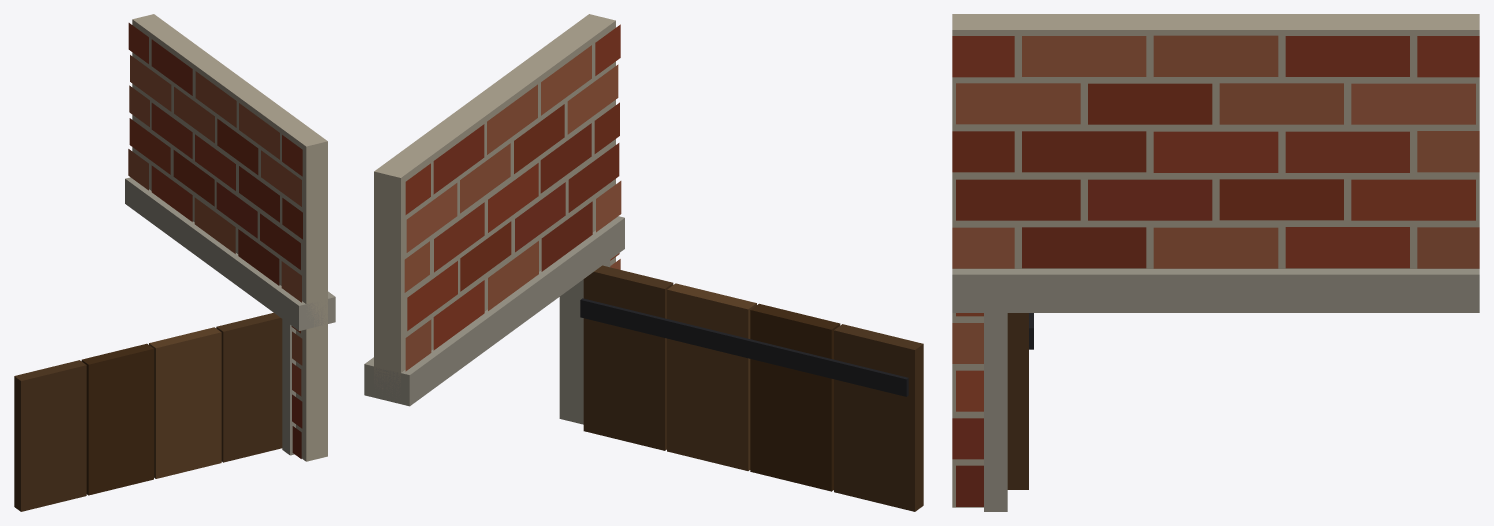
Rendered from wall-brick-door-open-high-r.glb.
3 renders of one model, left to right at view 1: azimuth 30°, elevation 25°; view 2: azimuth 150°, elevation 25°; view 3: azimuth 270°, elevation 25°, orthographic. The views are drawn at different scales.
Visible parts, largest first — view 1: wall-brick-door-open-high-r; view 2: wall-brick-door-open-high-r; view 3: wall-brick-door-open-high-r.
Boxes of the visible parts, box(x1,y1,x2,y2) form: wall-brick-door-open-high-r: box(14, 14, 335, 511); wall-brick-door-open-high-r: box(364, 14, 923, 511); wall-brick-door-open-high-r: box(952, 14, 1479, 511).
Bounding box in the file's own units: 0.984 × 1 × 1.
